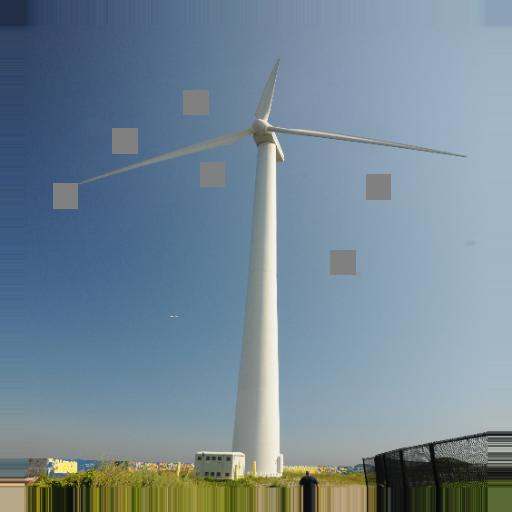wind turbine: (66, 55, 470, 477)
